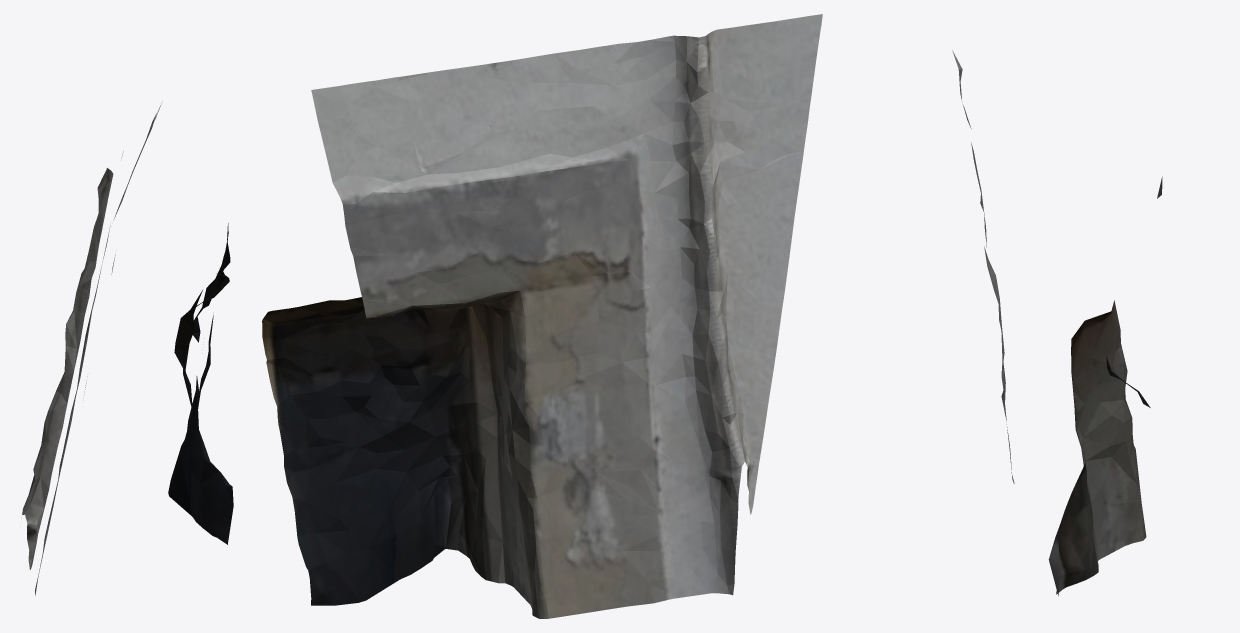
The picture shows the model from 3 angles, left to right: view 1: azimuth 30°, elevation 25°; view 2: azimuth 150°, elevation 25°; view 3: azimuth 270°, elevation 25°; orthographic projection. The views are drawn at different scales.
Size of the model in its own units: 0.6031 by 0.8374 by 0.6059.
3 materials, 3 textured.
